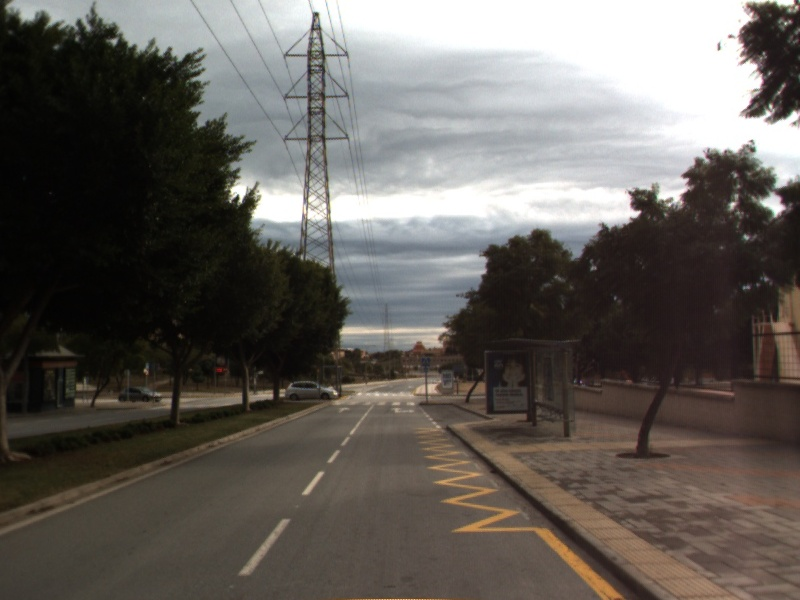STRAIGHT: (335, 404, 353, 415)
STRAIGHT_RIGHT: (388, 405, 417, 416)
